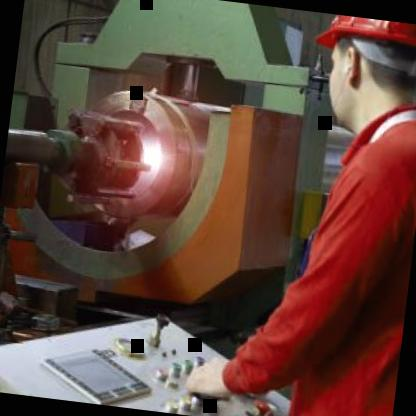helmet: (298, 11, 416, 137)
